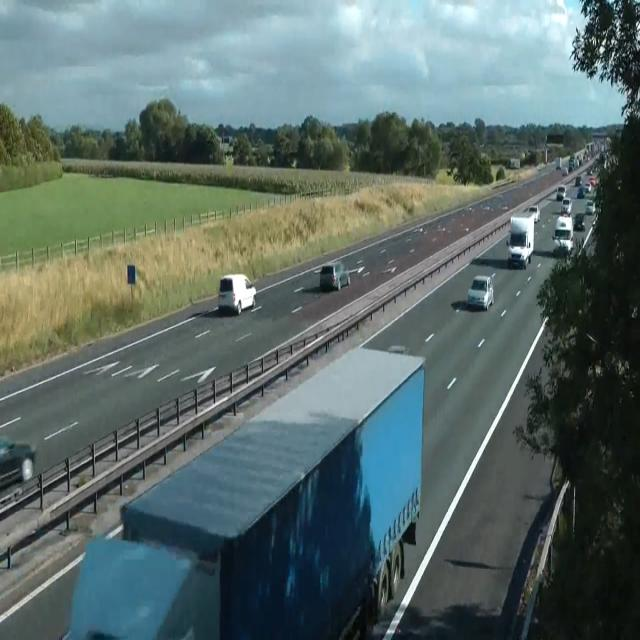bus: (0, 436, 36, 487), (573, 212, 585, 230), (528, 205, 540, 222), (414, 225, 426, 235), (590, 175, 596, 186), (437, 223, 445, 231), (562, 166, 568, 176)
jeep: (218, 273, 256, 315), (467, 274, 493, 310), (319, 260, 350, 290), (552, 215, 573, 255), (560, 197, 572, 215), (556, 184, 566, 200)
minibus: (61, 345, 425, 639), (506, 214, 534, 270), (510, 158, 520, 169), (556, 156, 562, 169)
